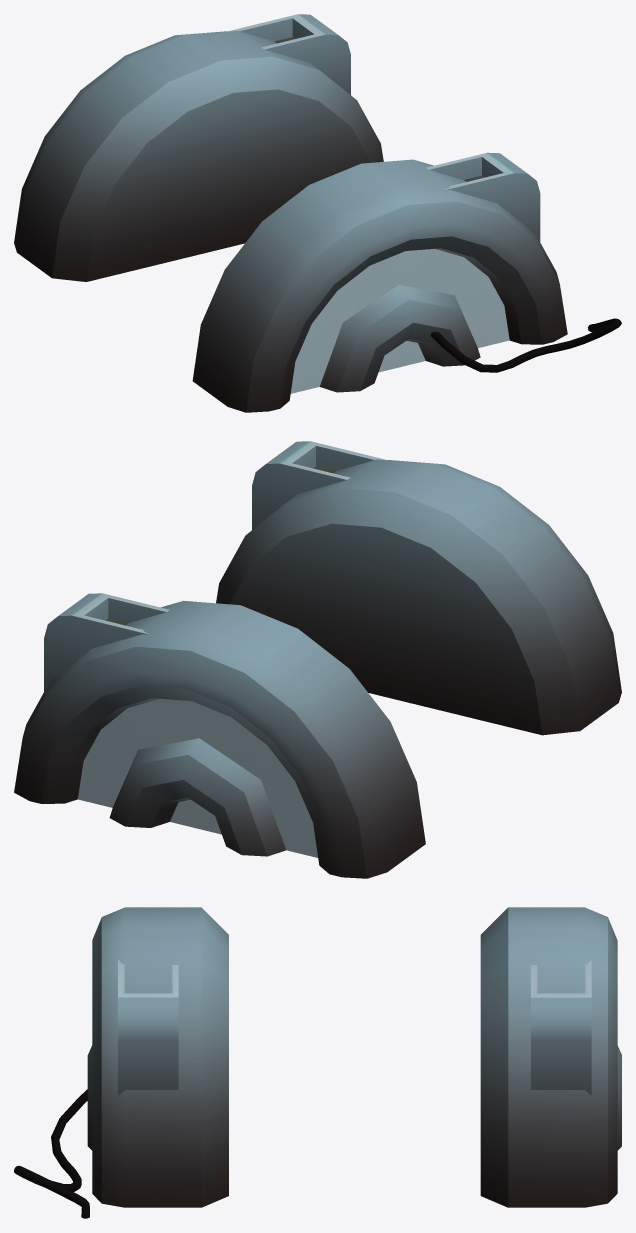
File: Generator.fbx
3 views of the same model, one above another, from view 1: azimuth 30°, elevation 25°; view 2: azimuth 150°, elevation 25°; view 3: azimuth 270°, elevation 25° (orthographic). The views are drawn at different scales.
Parts seen in each view (by area): view 1: Generator; view 2: Generator; view 3: Generator.
Part boxes in pixels (x1,y1,x2,y2): Generator: (14, 14, 621, 412); Generator: (14, 441, 621, 878); Generator: (14, 907, 621, 1218).
Bounding box in the file's own units: 154 × 74.14 × 208.
